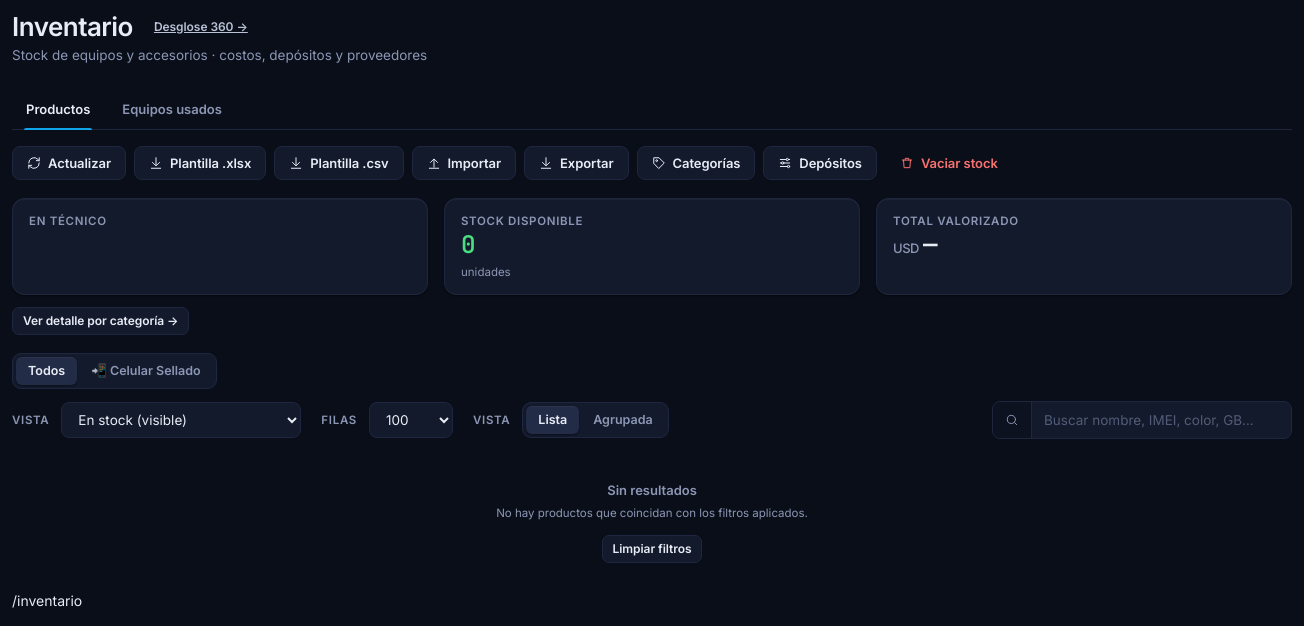
Scenario: Pantalla Inventario › F-08 — filtros persisten en URL › cambiar tab clase ("Celular Sellado") agrega ?clase=<UUID>
Click the button "📲 Celular Sellado": (146, 371) [79, 357, 213, 385]
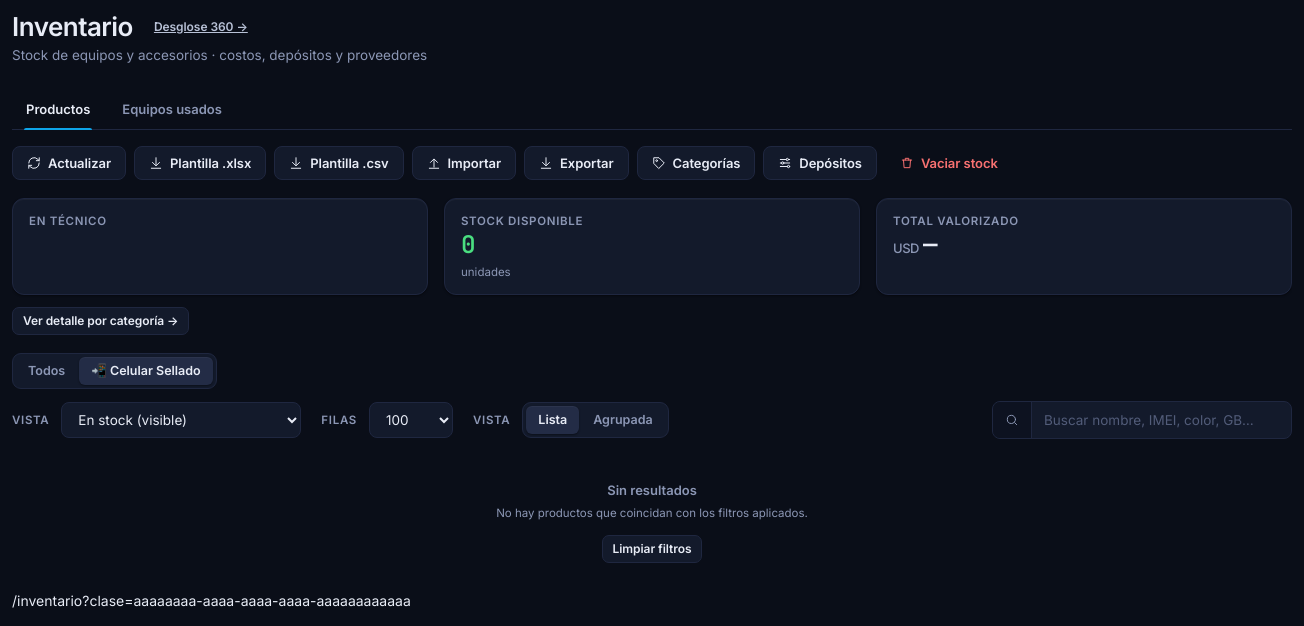
Now the text with test id "location" reads "/inventario?clase=aaaaaaaa-aaaa-aaaa-aaaa-aaaaaaaaaaaa", box [82, 592, 411, 609]
